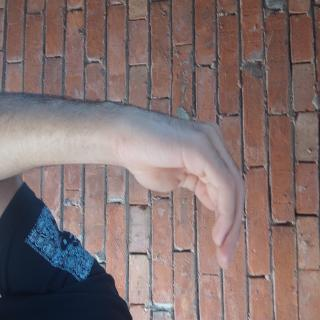HAA: (73, 92, 204, 282)
